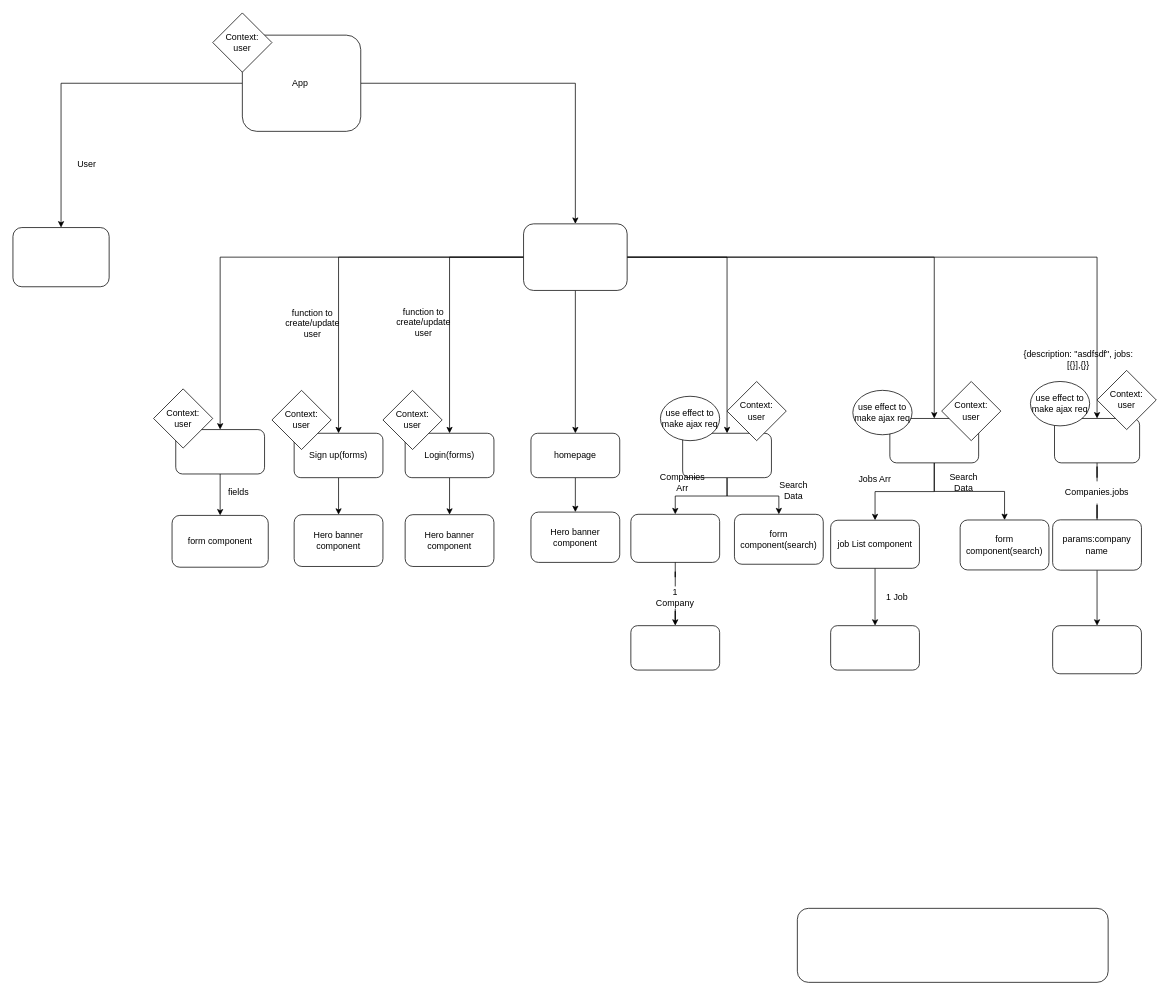
Some shapes in this 1169 by 995 pixel diagram are drawn without their labels. Here are the shapes that lost their labels. From the top down, the centre of each, then its label:
point (60, 257): navbar (logged in) or navbar(not logged in)
point (575, 256): routes to / /companies /jobs /profile
point (220, 451): Profile
point (726, 455): companies page companies
point (934, 440): jobs page jobs
point (1097, 440): company details
point (675, 538): company List component
point (675, 647): Companies Card Component (Link component inside)
point (874, 647): Job Card component
point (1096, 649): job list(filtered)
point (952, 945): /register /login /edit profile /log out
